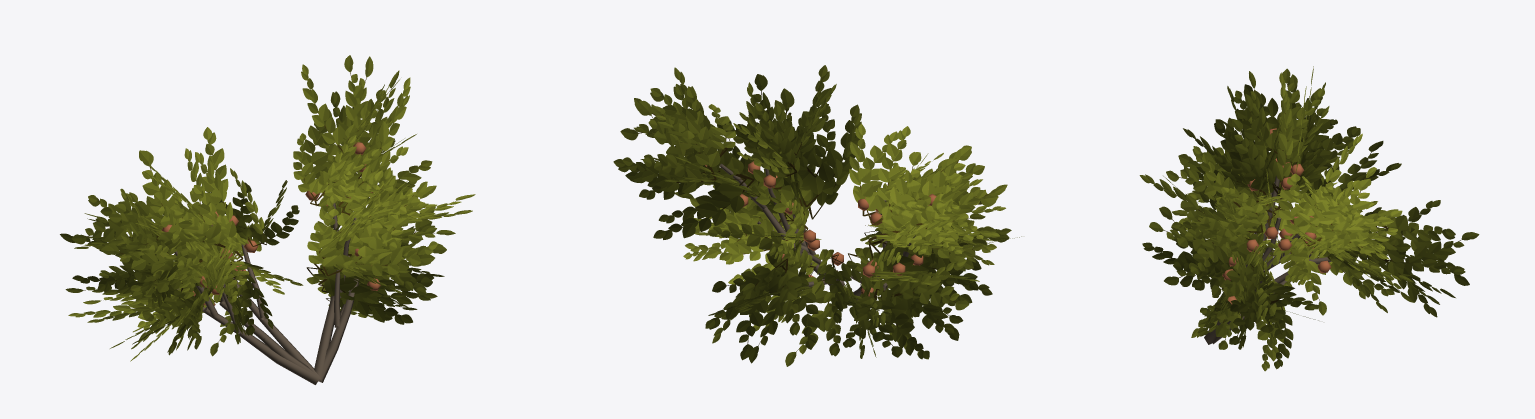
File: berry_bush_1_burnt1.glb
3 renders of one model, left to right at view 1: azimuth 30°, elevation 25°; view 2: azimuth 150°, elevation 25°; view 3: azimuth 270°, elevation 25°, orthographic. The views are drawn at different scales.
Parts seen in each view (by area): view 1: berry_bush_1_burnt1; view 2: berry_bush_1_burnt1; view 3: berry_bush_1_burnt1.
Boxes of the visible parts, left/top/right/bottom form: berry_bush_1_burnt1: left=60, top=55, right=475, bottom=384; berry_bush_1_burnt1: left=613, top=65, right=1021, bottom=366; berry_bush_1_burnt1: left=1139, top=66, right=1479, bottom=371.
Bounding box in the file's own units: 2.77 × 1.73 × 2.37.
3 materials, 1 textured.
